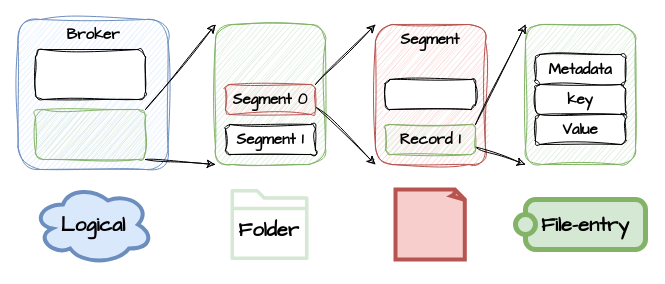
Some shapes in this 665 by 284 pixel diagram are drawn without their labels. The shapes that lost their labels are listed below. From the top down, each one's box as (x1, y1, x2, y2) in pixels, then its label:
(34, 48, 146, 100): Topic A partition 0
(214, 24, 326, 164): Partition
(384, 78, 476, 110): Record o
(524, 24, 636, 164): Record
(34, 108, 146, 160): Topic A partition 1
(393, 187, 467, 261): File
